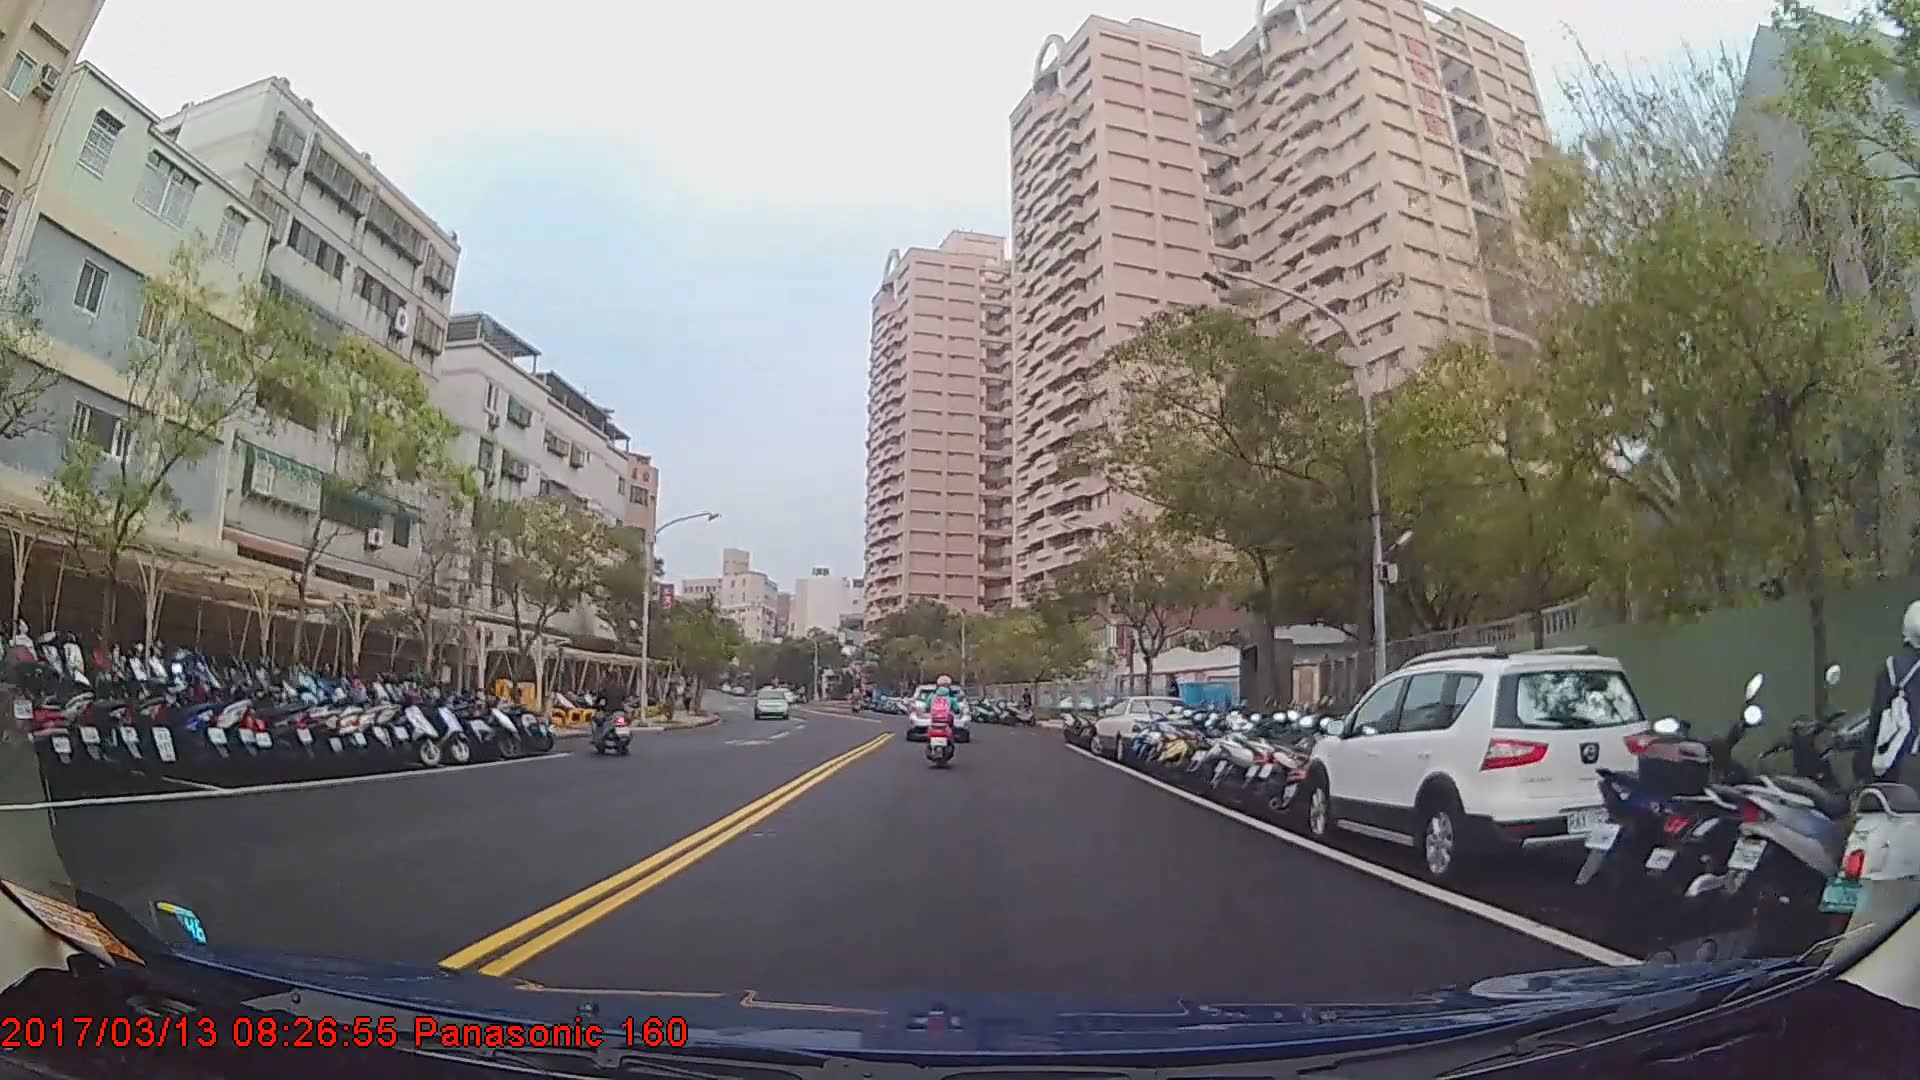rider: (587, 665, 634, 756), (920, 673, 964, 769)
vehicle: (1305, 645, 1665, 881), (1090, 693, 1193, 763), (904, 682, 970, 739), (753, 685, 791, 719)
